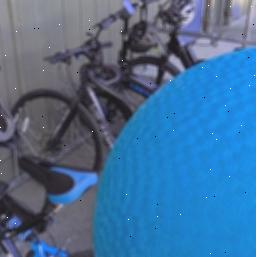algae: (91, 36, 256, 257)
